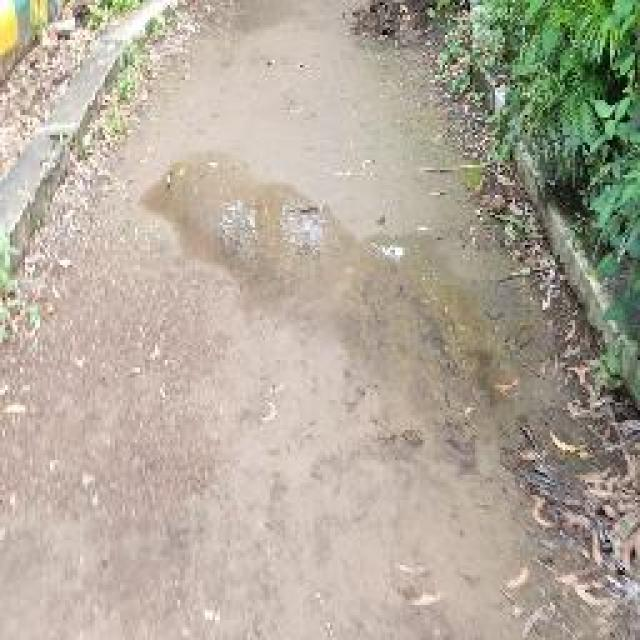stagnation: (143, 149, 483, 378)
